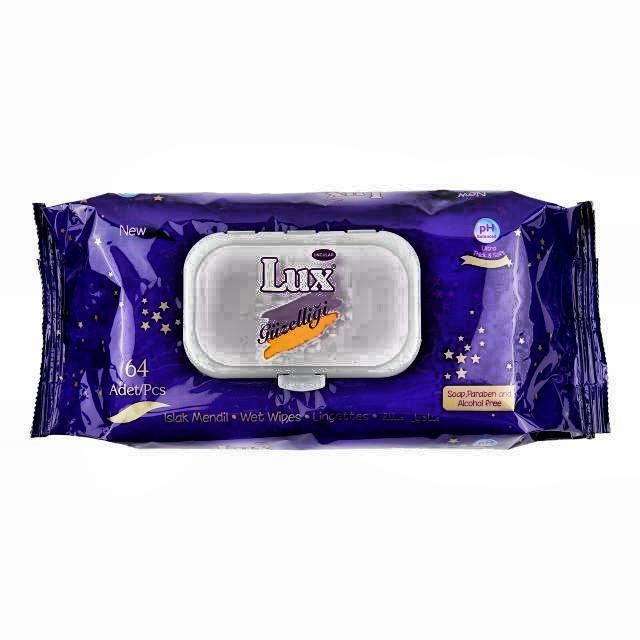plastic: (32, 191, 612, 450)
